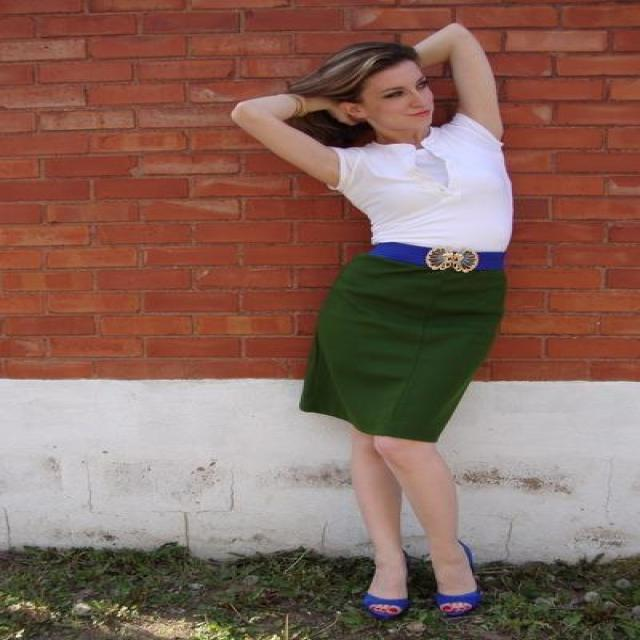shirt: (331, 115, 512, 251)
shoe: (363, 590, 477, 615)
skirt: (299, 252, 506, 442)
